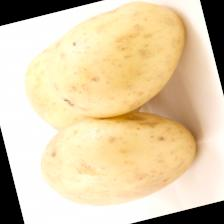potato: (29, 92, 207, 220), (32, 0, 202, 130)
